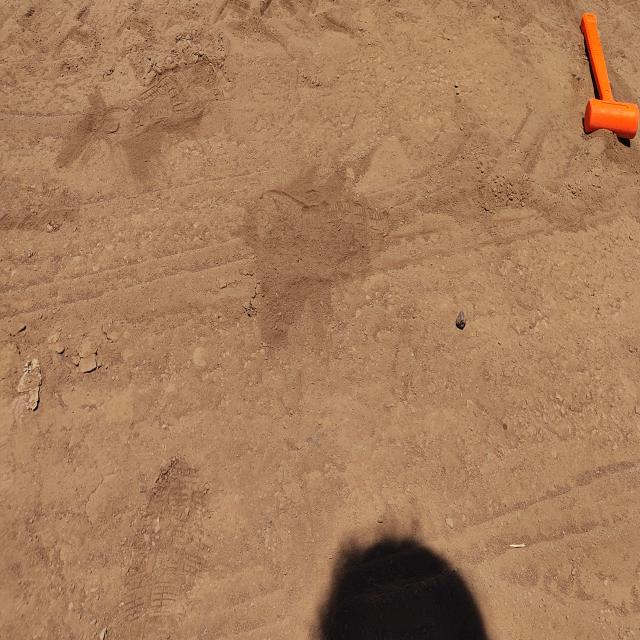Orange_hammer: (579, 10, 639, 142)
